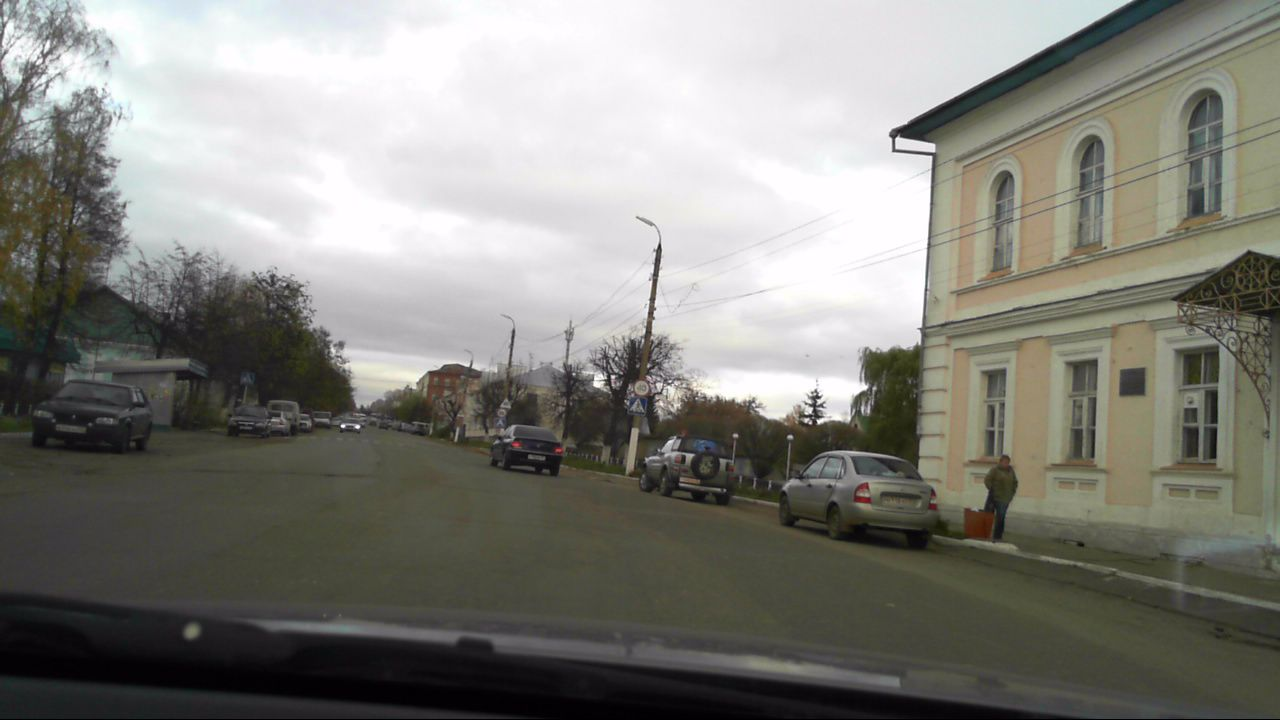speed_warning_40: (632, 379, 651, 397)
